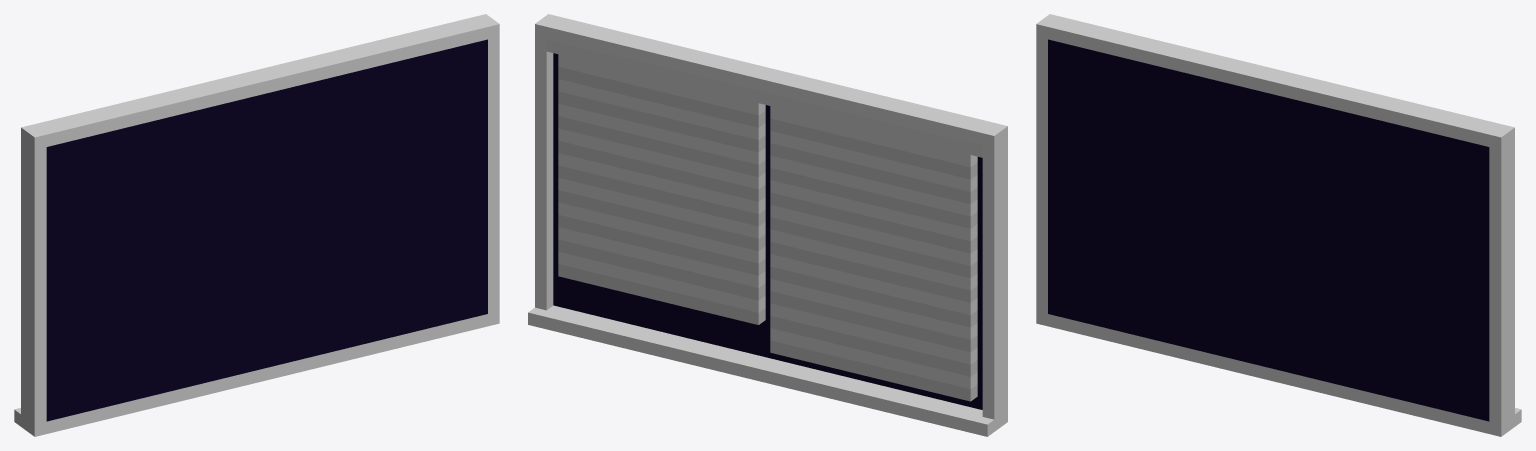
Rendered from window.glb.
The picture shows the model from 3 angles, left to right: view 1: azimuth 30°, elevation 25°; view 2: azimuth 150°, elevation 25°; view 3: azimuth 330°, elevation 25°; orthographic projection.
Visible parts, largest first — view 1: model; view 2: model; view 3: model.
Part boxes in pixels (box(x1,y1,x2,y2)): model: box(14, 14, 499, 436); model: box(528, 14, 1007, 436); model: box(1036, 14, 1521, 436).
Size of the model in its own units: 3.9 by 2.4 by 0.3.
